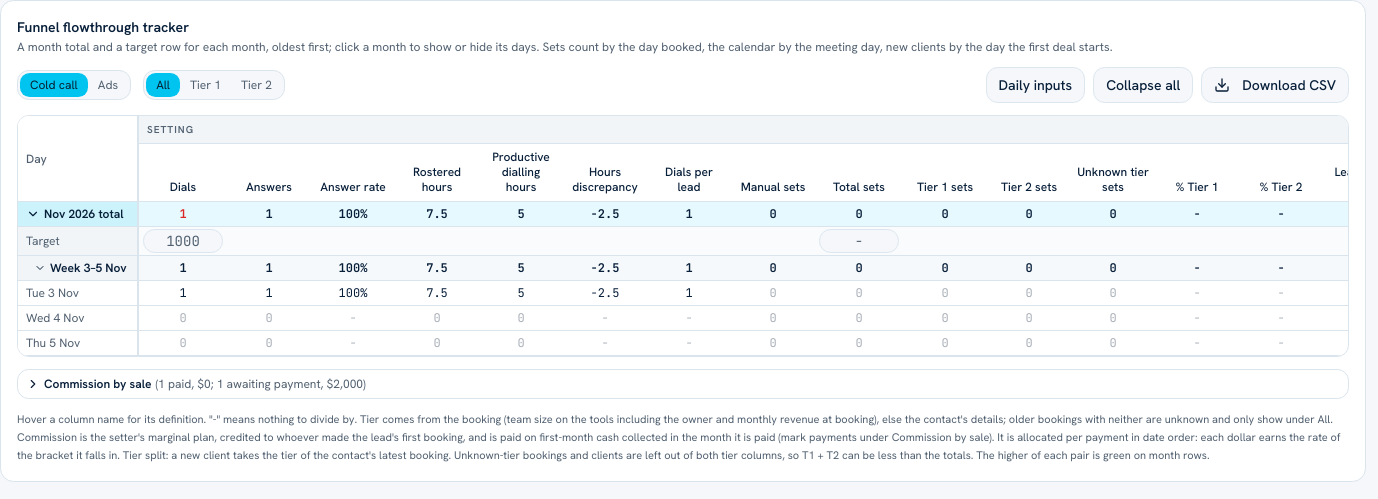
Scenario: FunnelTracker › renders a month total, a target row and one row per day, and switches to the Ads view
The image size is (1378, 499).
Check: the text "Nov 2026 total" is shown, box x1=44 y1=206 x2=124 y2=222
Check: the text "Target" is shown, box x1=18 y1=227 x2=138 y2=256
Click the button "Ads".
click(108, 85)  # box x1=88 y1=73 x2=128 y2=97
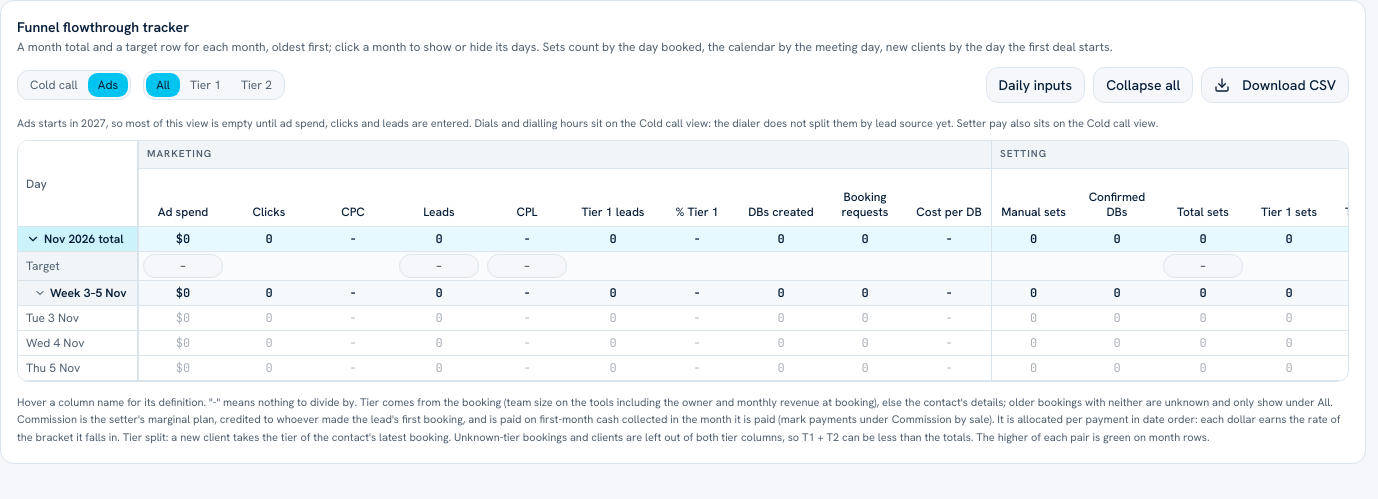
Check: the column heading "Dials" is not shown
Check: the column heading "CPL" is shown, box x1=483 y1=168 x2=571 y2=226
